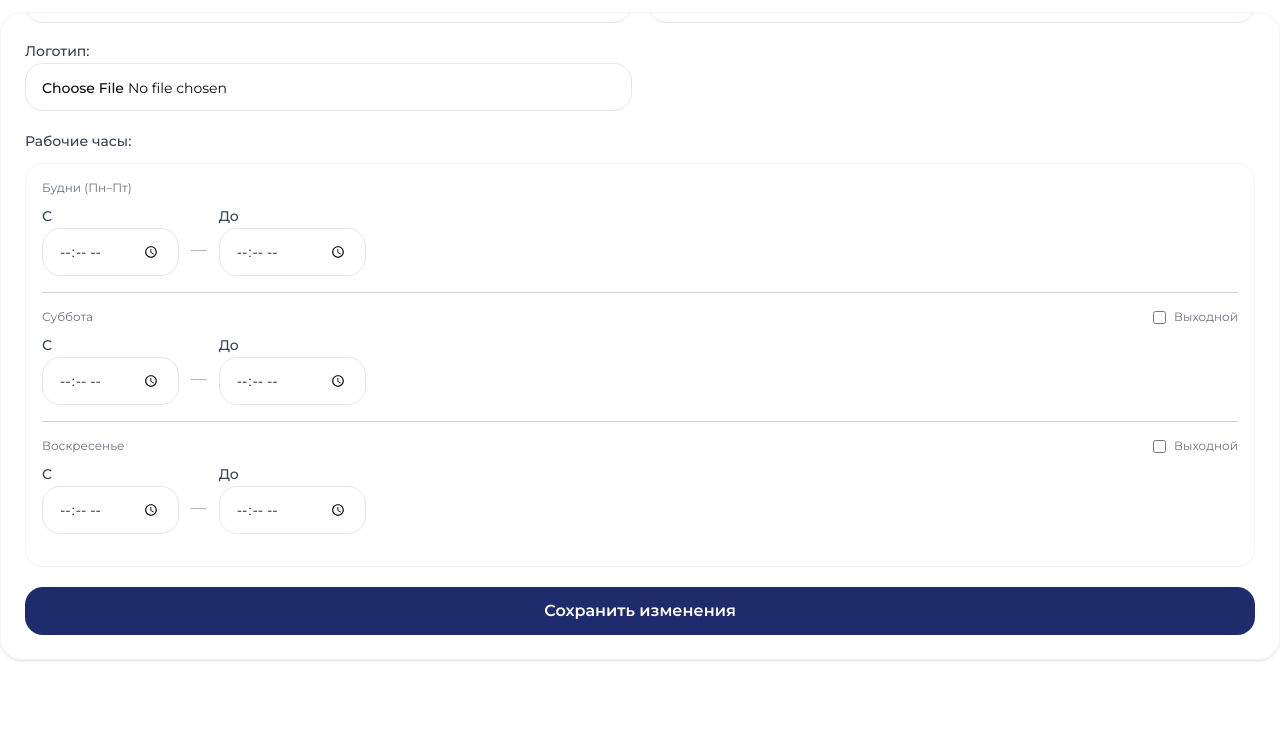
ContactSettingsForm › валидация › требует телефон, email и адрес
(page scrolled)
Click the button "Сохранить изменения" at (640, 611), box [25,587,1255,635]
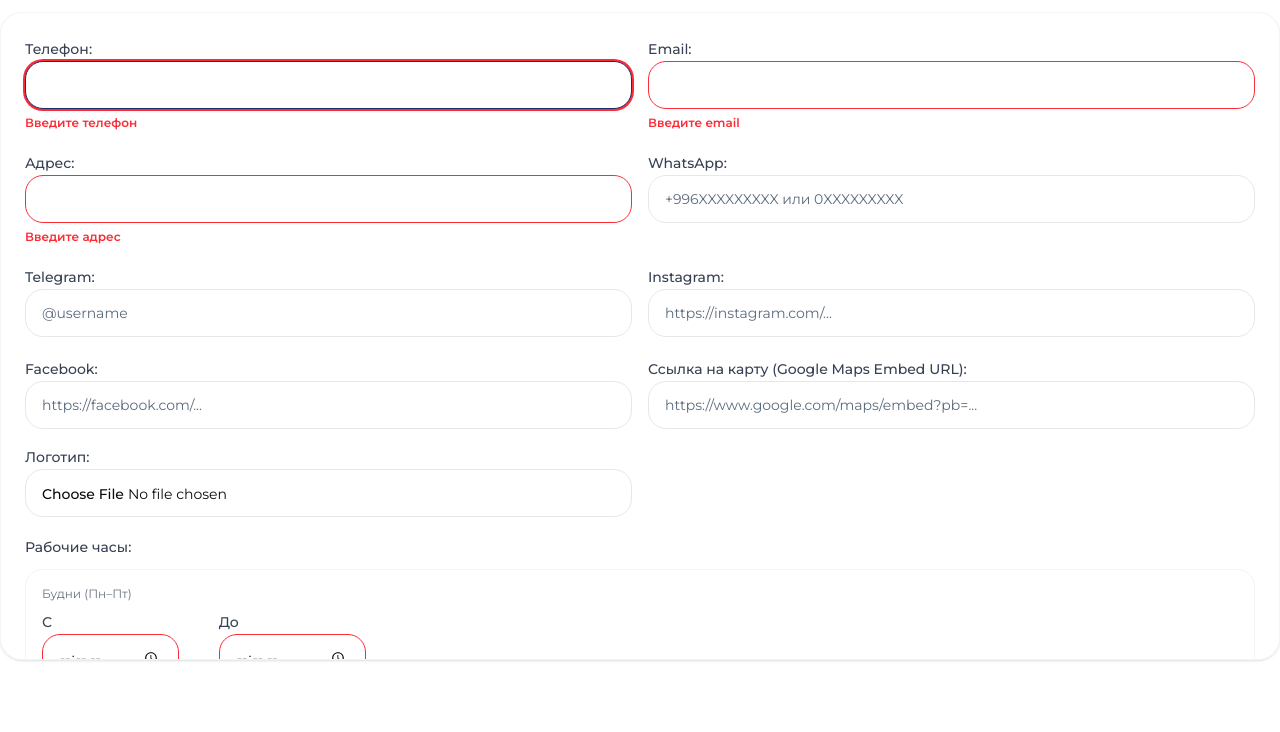
Expected: the text "Введите телефон" is shown, [25,115,137,130]
Expected: the text "Введите email" is shown, [648,115,740,130]
Expected: the text "Введите адрес" is shown, [25,229,121,244]
